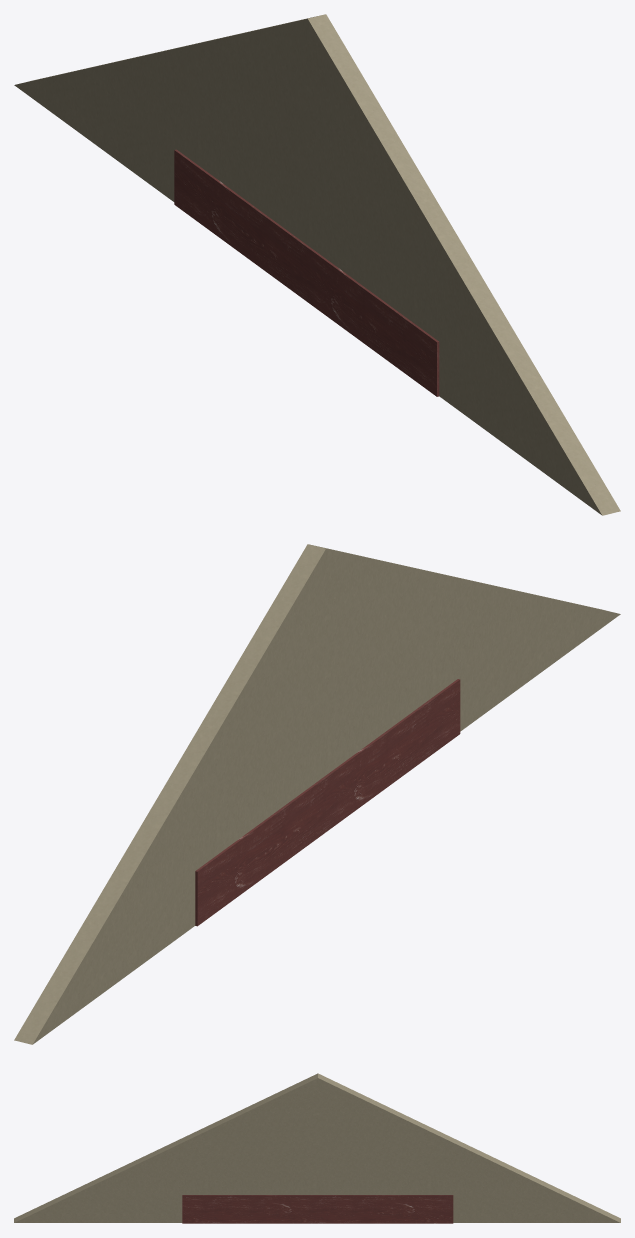
The model's file is SM_Sun_Pal_Wall_F.fbx.
3 views of the same model, one above another, from view 1: azimuth 30°, elevation 25°; view 2: azimuth 150°, elevation 25°; view 3: azimuth 270°, elevation 25° (orthographic). The views are drawn at different scales.
Parts seen in each view (by area): view 1: SM_Sun_Pal_Wall_F; view 2: SM_Sun_Pal_Wall_F; view 3: SM_Sun_Pal_Wall_F.
Boxes of the visible parts, x1,y1,x2,y2 form: SM_Sun_Pal_Wall_F: (14,14,620,515); SM_Sun_Pal_Wall_F: (14,544,620,1044); SM_Sun_Pal_Wall_F: (14,1073,620,1223).
Size of the model in its own units: 12.45 by 145 by 550.
